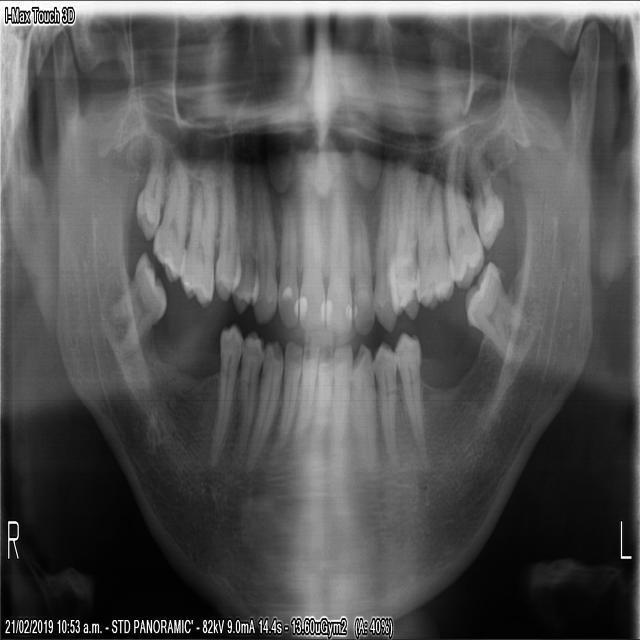LCD: (346, 338, 377, 484)
LCU: (371, 150, 400, 335)
LID: (328, 341, 352, 462), (312, 346, 332, 457)
LIU: (324, 176, 352, 338), (348, 191, 374, 336)
LMD: (461, 256, 527, 367)
LMU: (412, 157, 456, 312), (444, 139, 484, 293), (467, 142, 503, 249)
LPMD: (389, 326, 430, 473), (368, 336, 399, 477)
LPMU: (384, 147, 420, 326)
RCD: (241, 334, 283, 471)
RCU: (248, 157, 276, 326)
RID: (272, 332, 302, 451), (291, 335, 318, 440)
RIU: (297, 170, 325, 334), (275, 185, 297, 330)
RMD: (105, 245, 166, 351)
RMU: (177, 163, 217, 312), (150, 152, 189, 284), (132, 133, 163, 245)
RPMD: (206, 318, 245, 461), (231, 326, 264, 463)
RPMU: (228, 151, 259, 318), (213, 152, 241, 303)
